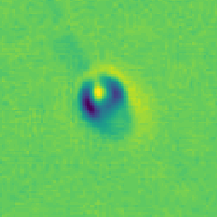normal: (28, 1, 94, 65)
